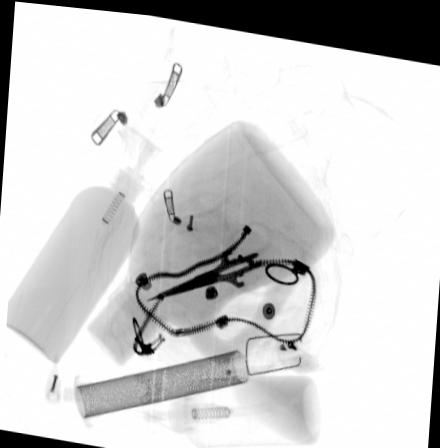Scissors: (146, 217, 282, 298)
